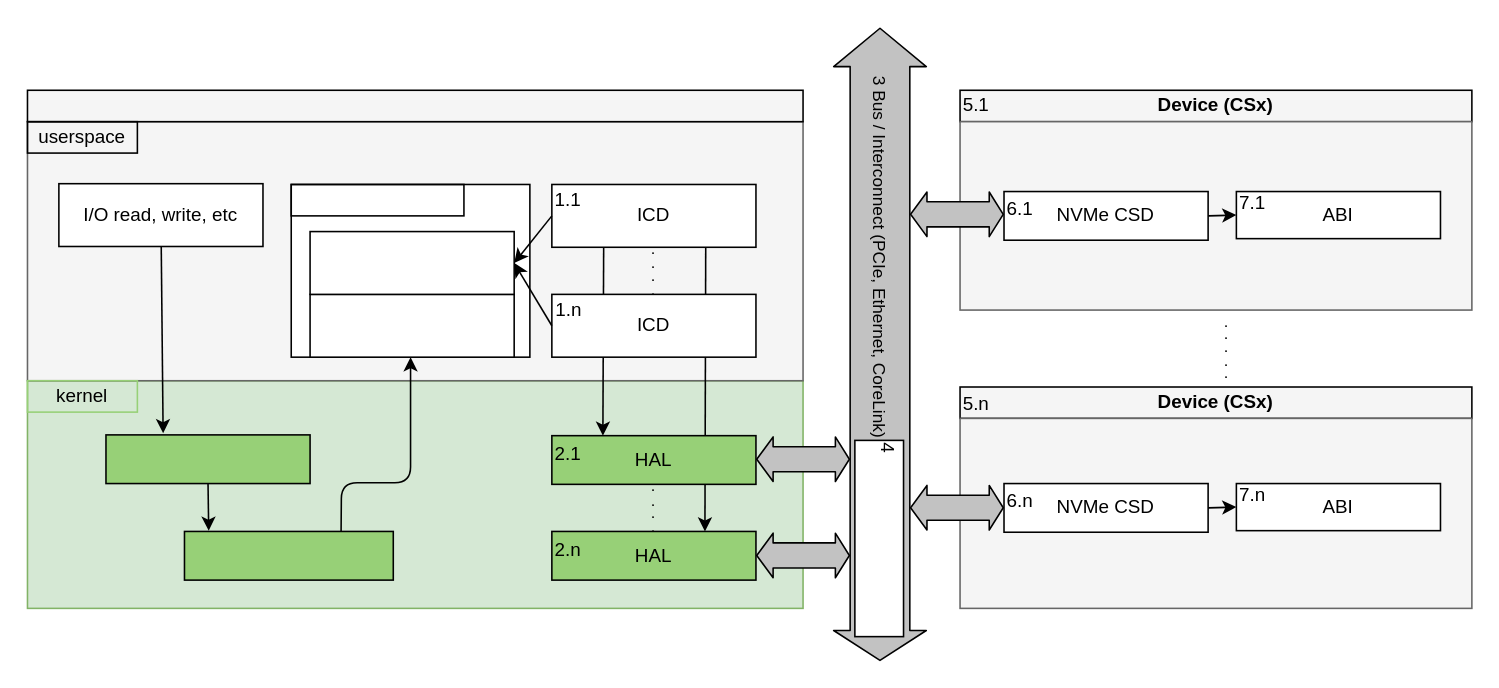
This 1499x688 diagram has some shape labels left out. The shapes that lost their labels are listed below. From the top down, each one's centre as x and y in pixels, then its label:
the point at 414,105: Host
the point at 377,199: hybrid filesystem
the point at 411,262: Loader
the point at 411,325: libfuse
the point at 207,458: VFS
the point at 288,555: FUSE
the point at 878,538: Protocol (NVMe)
